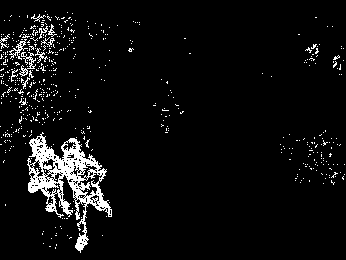person: (58, 136, 113, 252), (27, 135, 72, 220)
